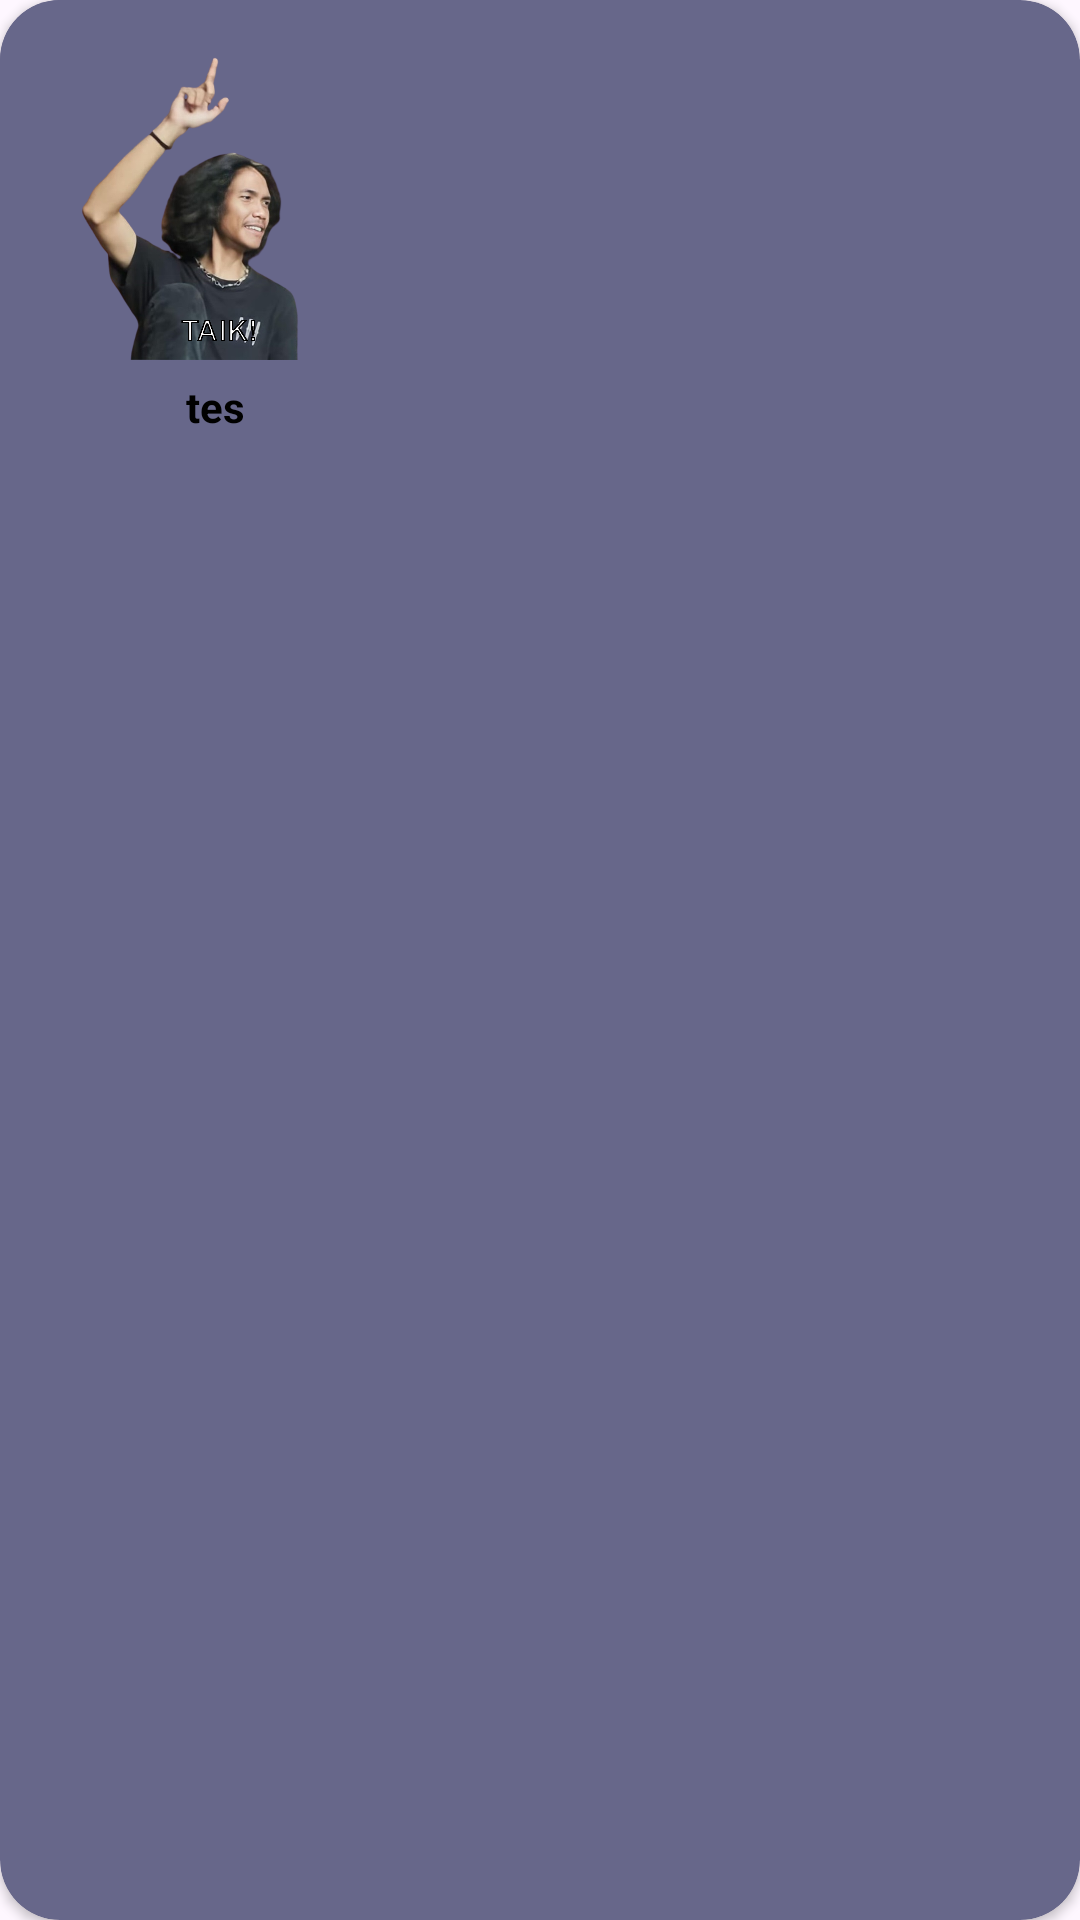

Screen size 1080x1920. Icon name, then its center in pixels as [x,y]:
meme: [190,209]
